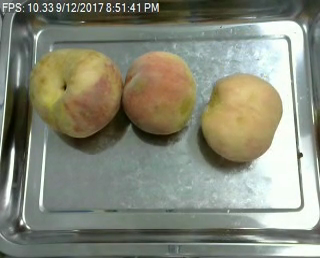Peach: (28, 46, 123, 139), (200, 74, 282, 160), (121, 50, 196, 135)
